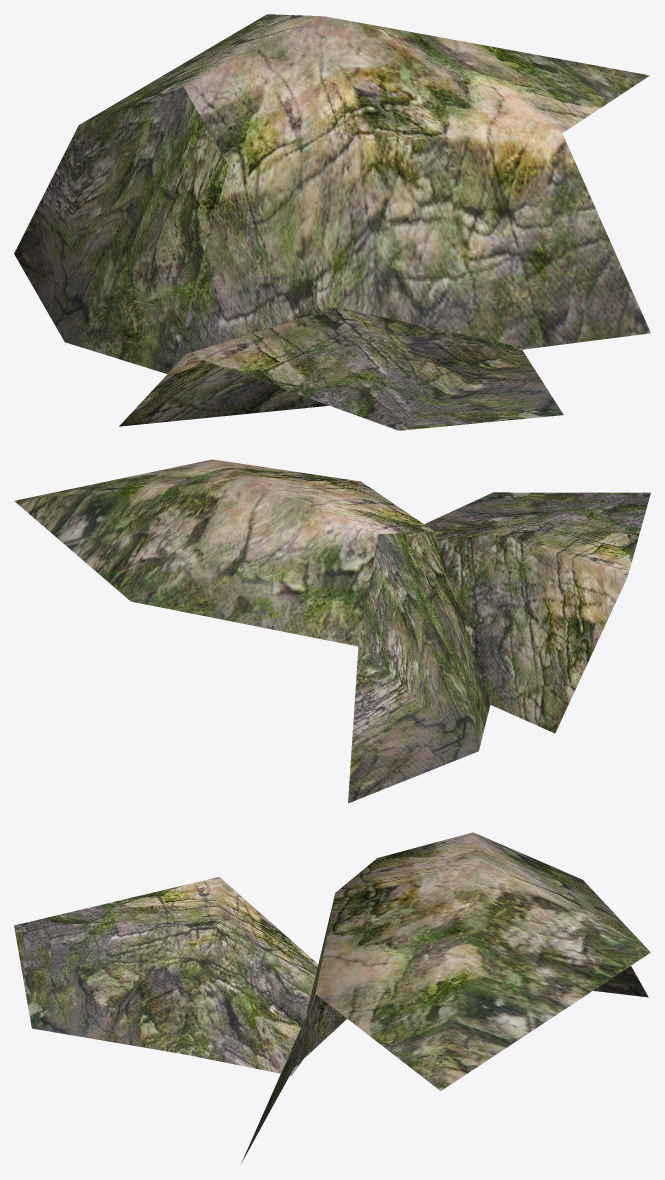
File: S_Rock_Green036_A1.FBX
3 views of the same model, one above another, from view 1: azimuth 30°, elevation 25°; view 2: azimuth 150°, elevation 25°; view 3: azimuth 270°, elevation 25° (orthographic). The views are drawn at different scales.
Parts seen in each view (by area): view 1: S_Rock_Green036_A1; view 2: S_Rock_Green036_A1; view 3: S_Rock_Green036_A1.
Boxes of the visible parts, x1,y1,x2,y2 form: S_Rock_Green036_A1: (14, 14, 650, 430); S_Rock_Green036_A1: (14, 459, 650, 803); S_Rock_Green036_A1: (14, 832, 650, 1163).
Bounding box in the file's own units: 485 × 222 × 527.
